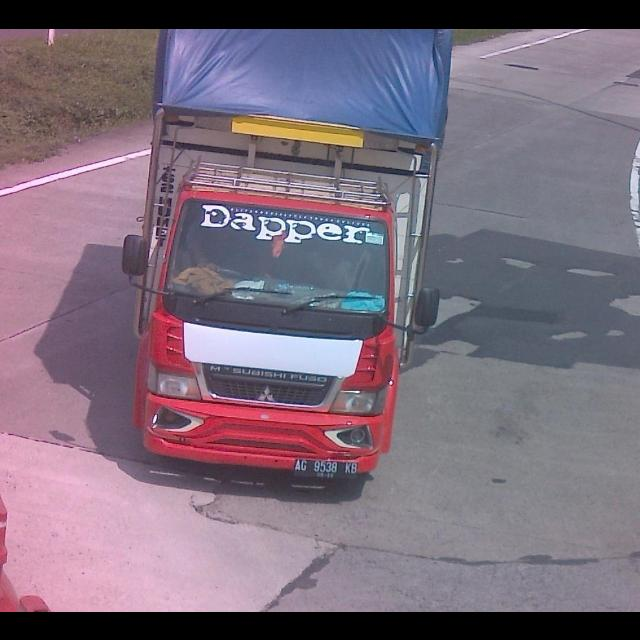plate: (293, 456, 359, 480)
